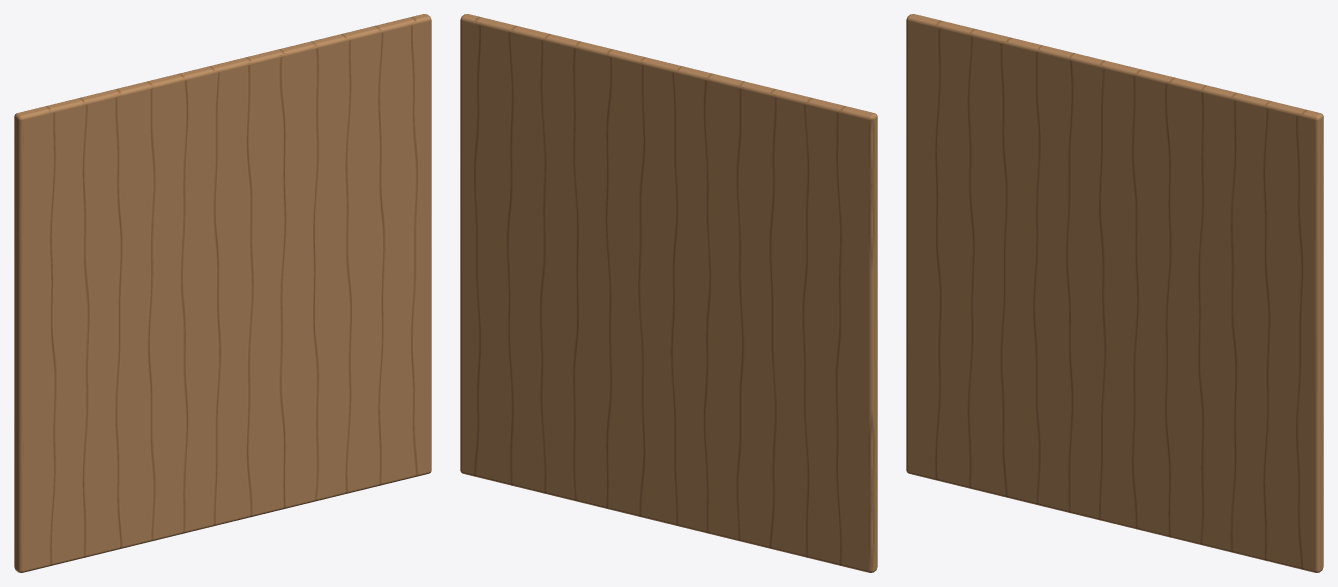
File: SM_CabinetDoor_Oak_70.glb
3 views of the same model, side by side, from view 1: azimuth 30°, elevation 25°; view 2: azimuth 150°, elevation 25°; view 3: azimuth 330°, elevation 25° (orthographic).
Parts seen in each view (by area): view 1: SM_CabinetDoor_Oak_70; view 2: SM_CabinetDoor_Oak_70; view 3: SM_CabinetDoor_Oak_70.
Part boxes in pixels (box(x1,y1,x2,y2)): SM_CabinetDoor_Oak_70: box(14, 14, 431, 572); SM_CabinetDoor_Oak_70: box(460, 14, 877, 572); SM_CabinetDoor_Oak_70: box(906, 14, 1323, 572).
Size of the model in its own units: 0.7 by 0.74 by 0.02.
Materials: 1 (1 with a texture image).
